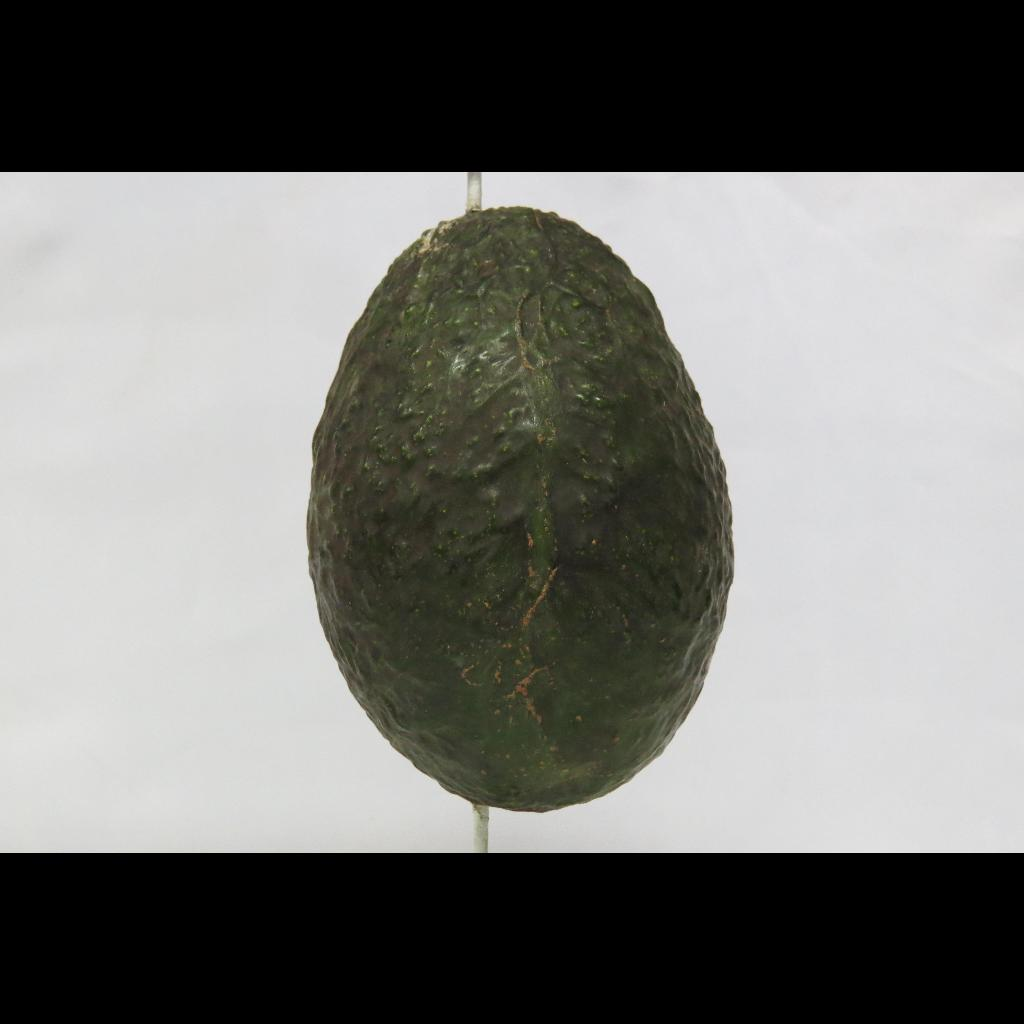Healthy: (229, 180, 757, 830)
